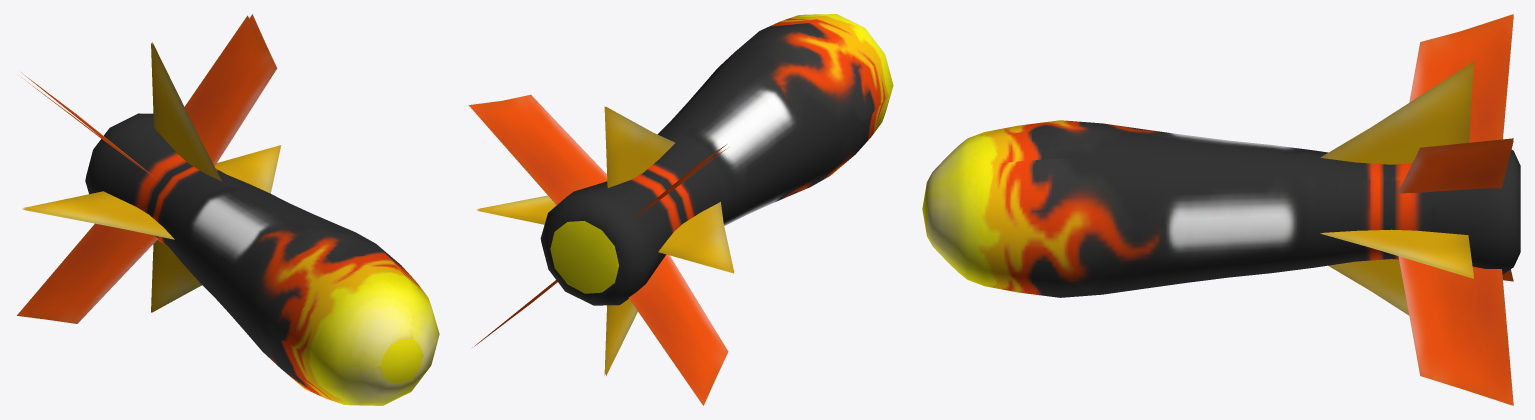
Rendered from bullet2.fbx.
3 views of the same model, side by side, from view 1: azimuth 30°, elevation 25°; view 2: azimuth 150°, elevation 25°; view 3: azimuth 270°, elevation 25° (orthographic). The views are drawn at different scales.
Visible parts, largest first — view 1: bullet2; view 2: bullet2; view 3: bullet2.
Part boxes in pixels (x1=…): bullet2: x1=17, y1=14, x2=439, y2=405; bullet2: x1=468, y1=14, x2=893, y2=405; bullet2: x1=922, y1=14, x2=1520, y2=405.
Bounding box in the file's own units: 50.54 × 50.54 × 92.8.
